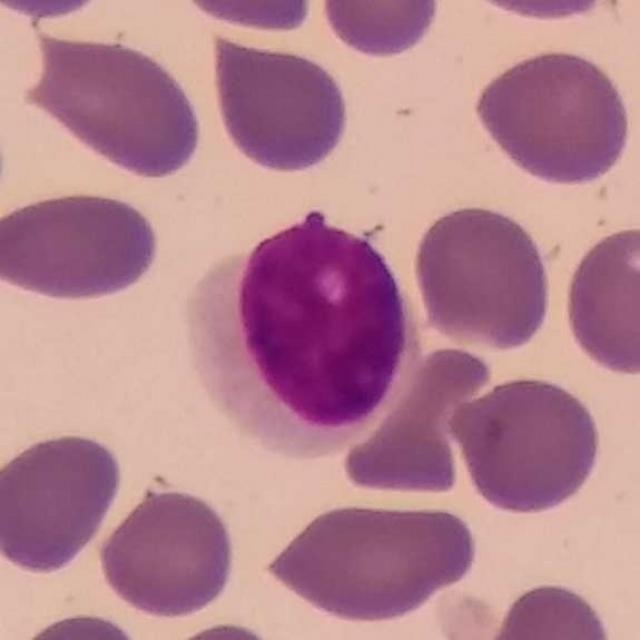Lymphocyte: (178, 205, 418, 463)
RBC: (16, 25, 209, 184), (257, 493, 481, 628), (337, 339, 491, 501), (445, 370, 606, 518), (470, 45, 636, 188), (410, 199, 556, 354), (206, 30, 355, 178), (93, 481, 240, 621), (1, 184, 166, 306), (0, 428, 125, 576), (557, 220, 640, 379), (479, 576, 616, 640), (316, 0, 445, 62), (170, 0, 325, 36), (451, 0, 631, 26), (8, 607, 148, 640), (142, 616, 294, 640), (2, 0, 115, 23)
